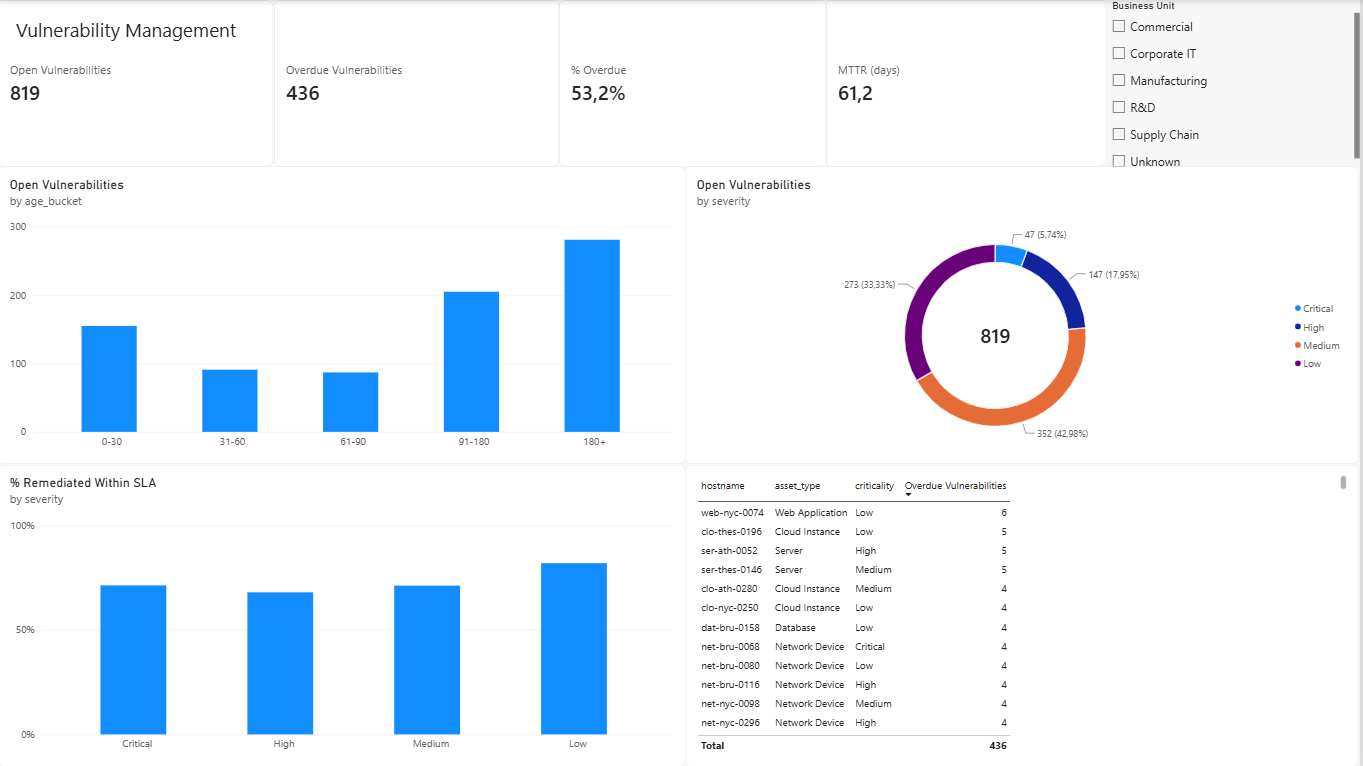

Layout of this report page (visuals, bound fields, positions):
{"tool":"powerbi","page":{"name":"Vulnerabilities","canvas":[1920,1080],"ordinal":1},"visuals":[{"type":"slicer","fields":{"Values":["business_units.business_unit"]},"box":[1561.9,0,357.2,235.3],"z":0},{"type":"cardVisual","box":[0,0,388.3,235.3],"z":1000},{"type":"cardVisual","fields":{"Data":["_Measures.Open Vulnerabilities"]},"box":[0,0,388.3,235.3],"z":2000},{"type":"cardVisual","box":[388.3,0,402.5,235.3],"z":3000},{"type":"cardVisual","fields":{"Data":["_Measures.Overdue Vulnerabilities"]},"box":[388.3,0,402.5,235.3],"z":4000},{"type":"cardVisual","box":[790.9,0,377,235.3],"z":5000},{"type":"cardVisual","fields":{"Data":["_Measures.% Overdue"]},"box":[790.9,0,377,235.3],"z":6000},{"type":"cardVisual","box":[1167.9,2.8,394,232.4],"z":7000},{"type":"cardVisual","fields":{"Data":["_Measures.MTTR (days)"]},"box":[1167.9,0,394,235.3],"z":8000},{"type":"columnChart","fields":{"Category":["vulnerabilities.age_bucket"],"Y":["_Measures.Open Vulnerabilities"]},"box":[0,235.3,969.5,419.5],"z":9000},{"type":"textbox","box":[25.5,22.7,674.7,51],"z":10000},{"type":"donutChart","fields":{"Category":["vulnerabilities.severity"],"Y":["_Measures.Open Vulnerabilities"]},"box":[969.5,235.3,949.6,419.5],"z":11000},{"type":"clusteredColumnChart","fields":{"Category":["vulnerabilities.severity"],"Y":["_Measures.% Remediated Within SLA"]},"box":[0,654.8,969.5,425.2],"z":12000},{"type":"tableEx","fields":{"Values":["assets.hostname","assets.asset_type","assets.criticality","_Measures.Overdue Vulnerabilities"]},"box":[969,655,950,425],"z":13000}]}

Visuals, with their boxes in screenshot pixels (x1, y1, x2, y2), scaled from the page's 1920x1080 canvas onto the 1363x766 screenshot:
slicer - business_units.business_unit: [1109,0,1362,167]
cardVisual: [0,0,276,167]
cardVisual - _Measures.Open Vulnerabilities: [0,0,276,167]
cardVisual: [276,0,561,167]
cardVisual - _Measures.Overdue Vulnerabilities: [276,0,561,167]
cardVisual: [561,0,829,167]
cardVisual - _Measures.% Overdue: [561,0,829,167]
cardVisual: [829,2,1109,167]
cardVisual - _Measures.MTTR (days): [829,0,1109,167]
columnChart - vulnerabilities.age_bucket x _Measures.Open Vulnerabilities: [0,167,688,464]
textbox: [18,16,497,52]
donutChart - vulnerabilities.severity x _Measures.Open Vulnerabilities: [688,167,1362,464]
clusteredColumnChart - vulnerabilities.severity x _Measures.% Remediated Within SLA: [0,464,688,765]
tableEx - assets.hostname x assets.asset_type: [688,465,1362,765]
